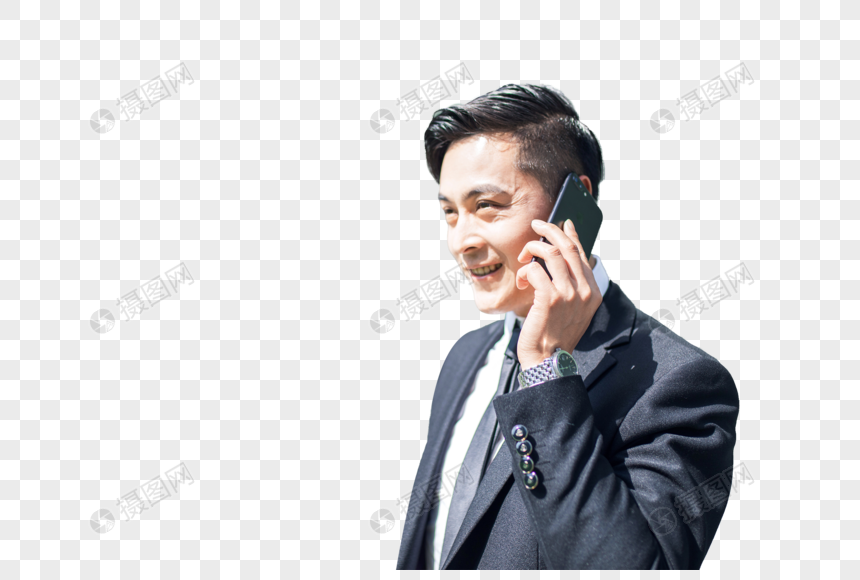calling: (515, 169, 607, 362)
